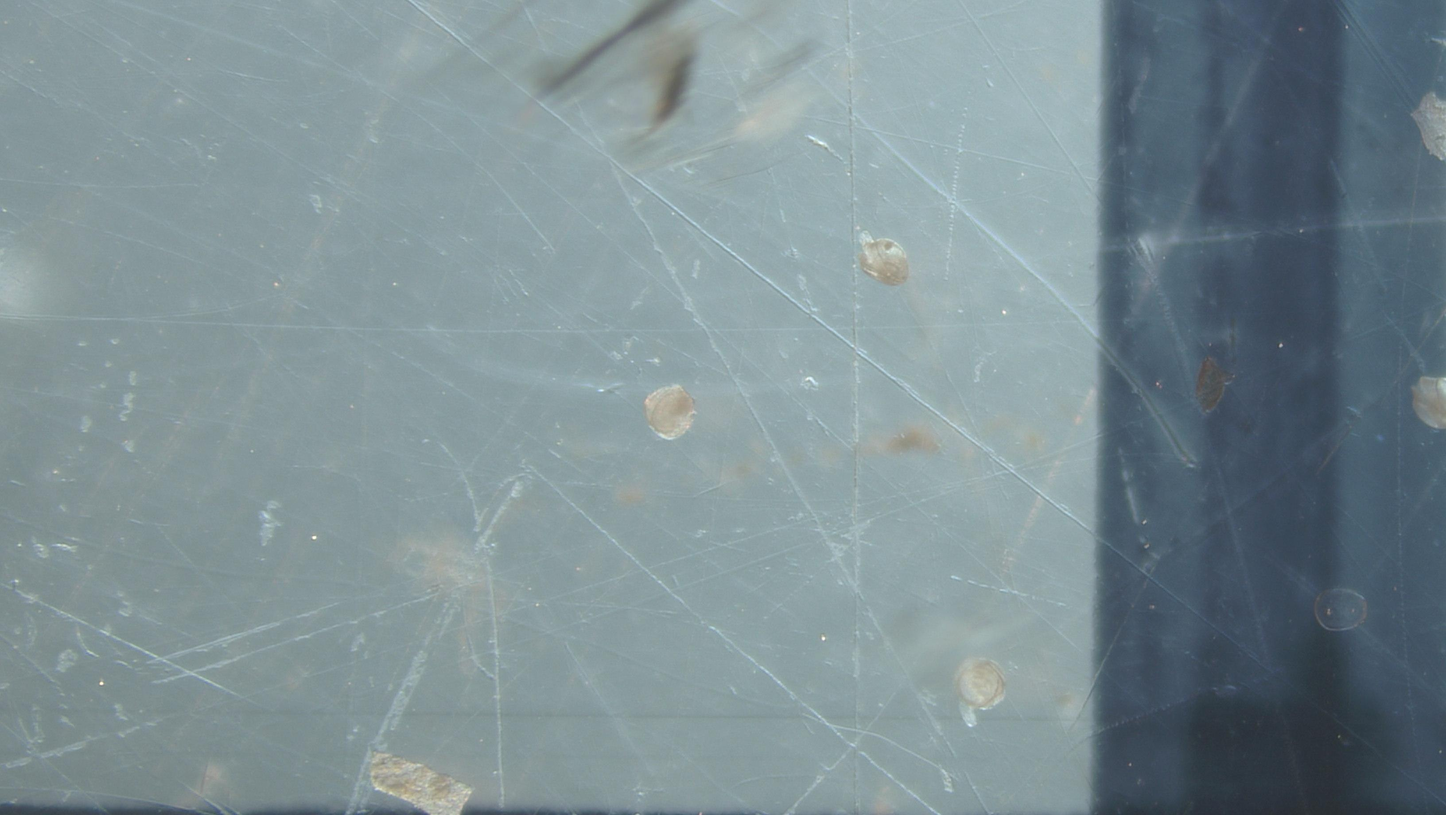dead: (1314, 589, 1367, 632)
live: (644, 385, 696, 440), (956, 659, 1005, 710), (1412, 377, 1446, 430)
